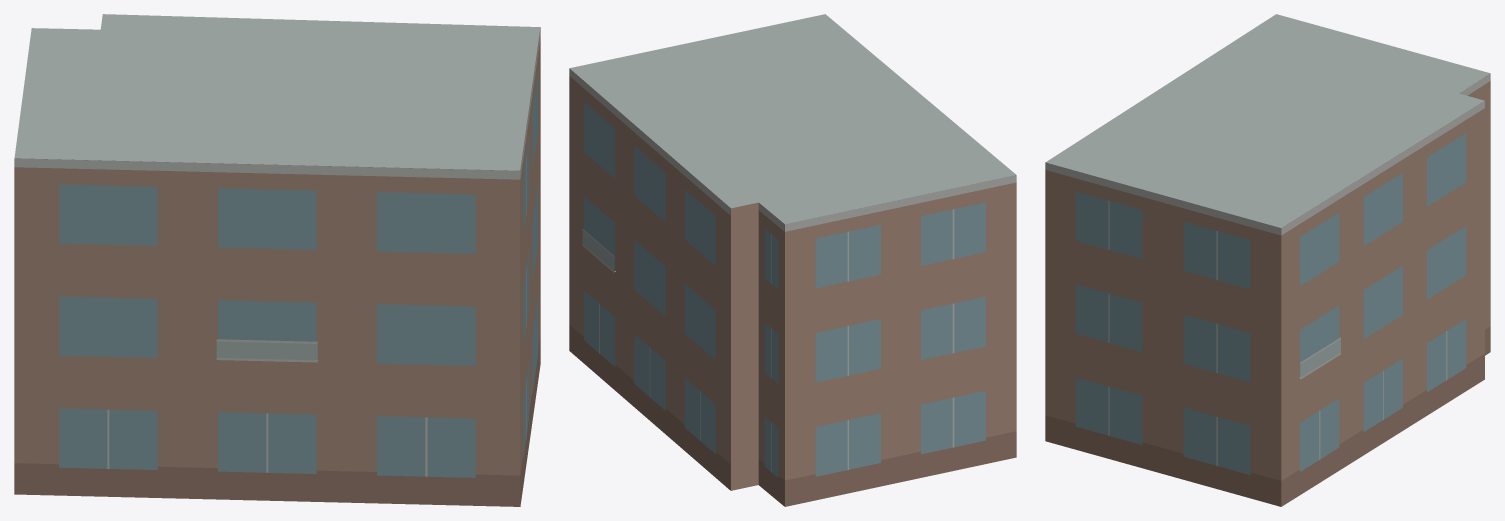
Rendered from survey-upis-32660903.glb.
3 renders of one model, left to right at view 1: azimuth 30°, elevation 25°; view 2: azimuth 150°, elevation 25°; view 3: azimuth 270°, elevation 25°, orthographic. The views are drawn at different scales.
Parts seen in each view (by area): view 1: survey-upis-32660903.tmp; view 2: survey-upis-32660903.tmp; view 3: survey-upis-32660903.tmp.
Part boxes in pixels (x1,y1,x2,y2): survey-upis-32660903.tmp: (14, 14, 540, 506); survey-upis-32660903.tmp: (569, 14, 1016, 506); survey-upis-32660903.tmp: (1045, 14, 1490, 506).
Bounding box in the file's own units: 15.08 × 9.15 × 13.25.
